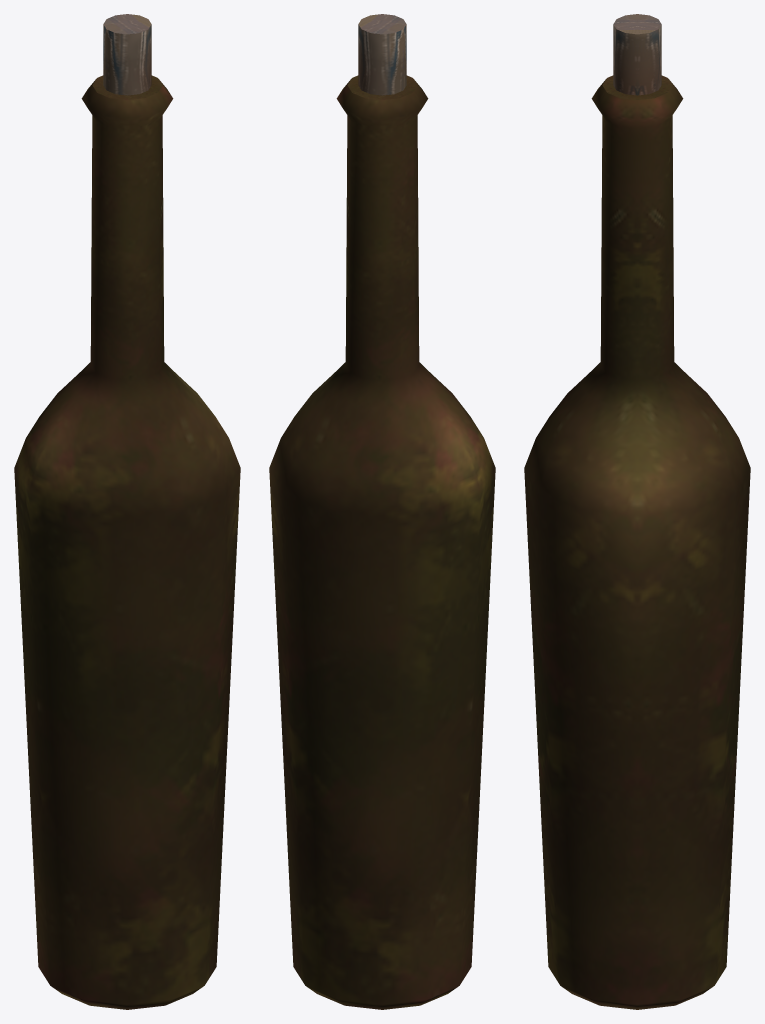
File: village_bottle_04.fbx
The picture shows the model from 3 angles, left to right: view 1: azimuth 30°, elevation 25°; view 2: azimuth 150°, elevation 25°; view 3: azimuth 270°, elevation 25°; orthographic projection.
Visible parts, largest first — view 1: village_bottle_04; view 2: village_bottle_04; view 3: village_bottle_04.
Part boxes in pixels (<box>): village_bottle_04: <box>14,14,240,1009</box>; village_bottle_04: <box>269,14,495,1009</box>; village_bottle_04: <box>524,14,750,1009</box>.
Size of the model in its own units: 11.03 by 51.24 by 11.03.
